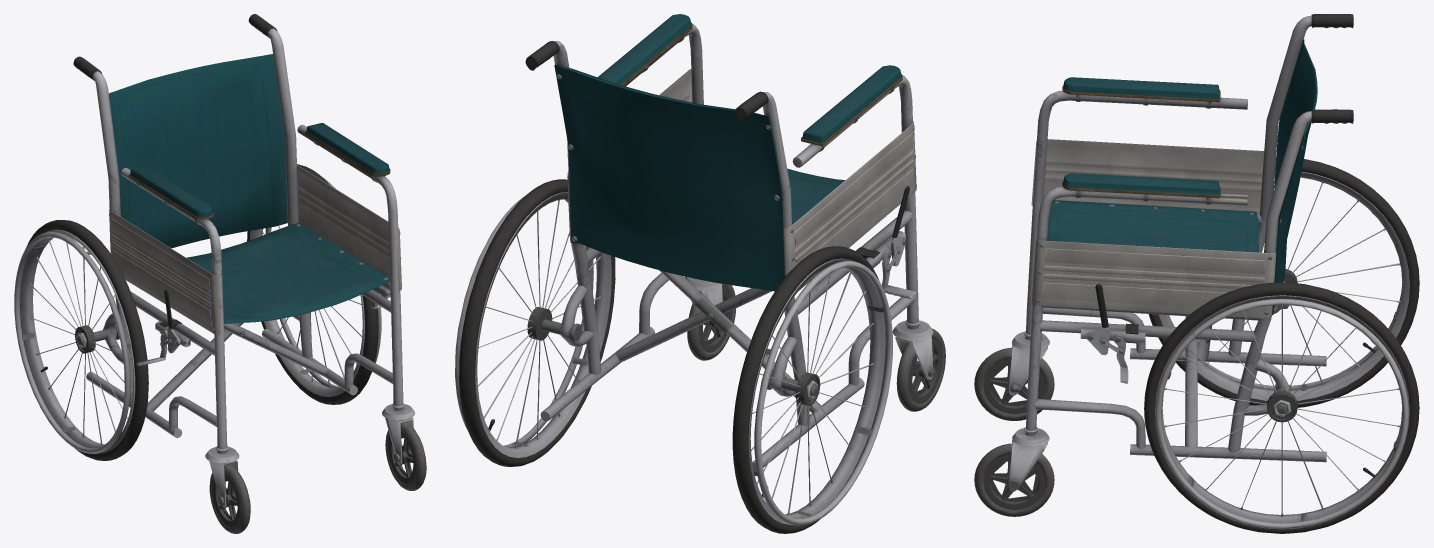
Rendered from wheelchair_01.glb.
The picture shows the model from 3 angles, left to right: view 1: azimuth 30°, elevation 25°; view 2: azimuth 150°, elevation 25°; view 3: azimuth 270°, elevation 25°; orthographic projection. The views are drawn at different scales.
Parts seen in each view (by area): view 1: wheelchair_01; view 2: wheelchair_01; view 3: wheelchair_01.
Part boxes in pixels (x1,y1,x2,y2): wheelchair_01: (14, 14, 426, 533); wheelchair_01: (455, 14, 945, 533); wheelchair_01: (974, 14, 1419, 533).
Size of the model in its own units: 0.8241 by 1.1 by 1.09.
1 material, 1 textured.
